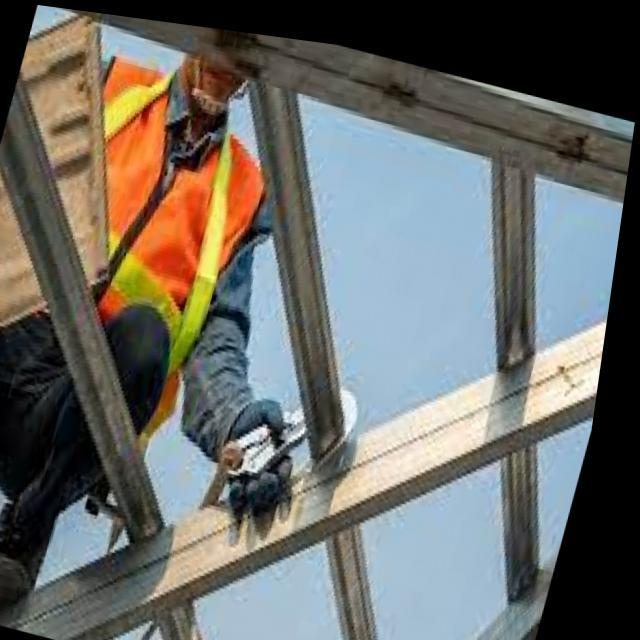belt: (42, 41, 268, 382)
